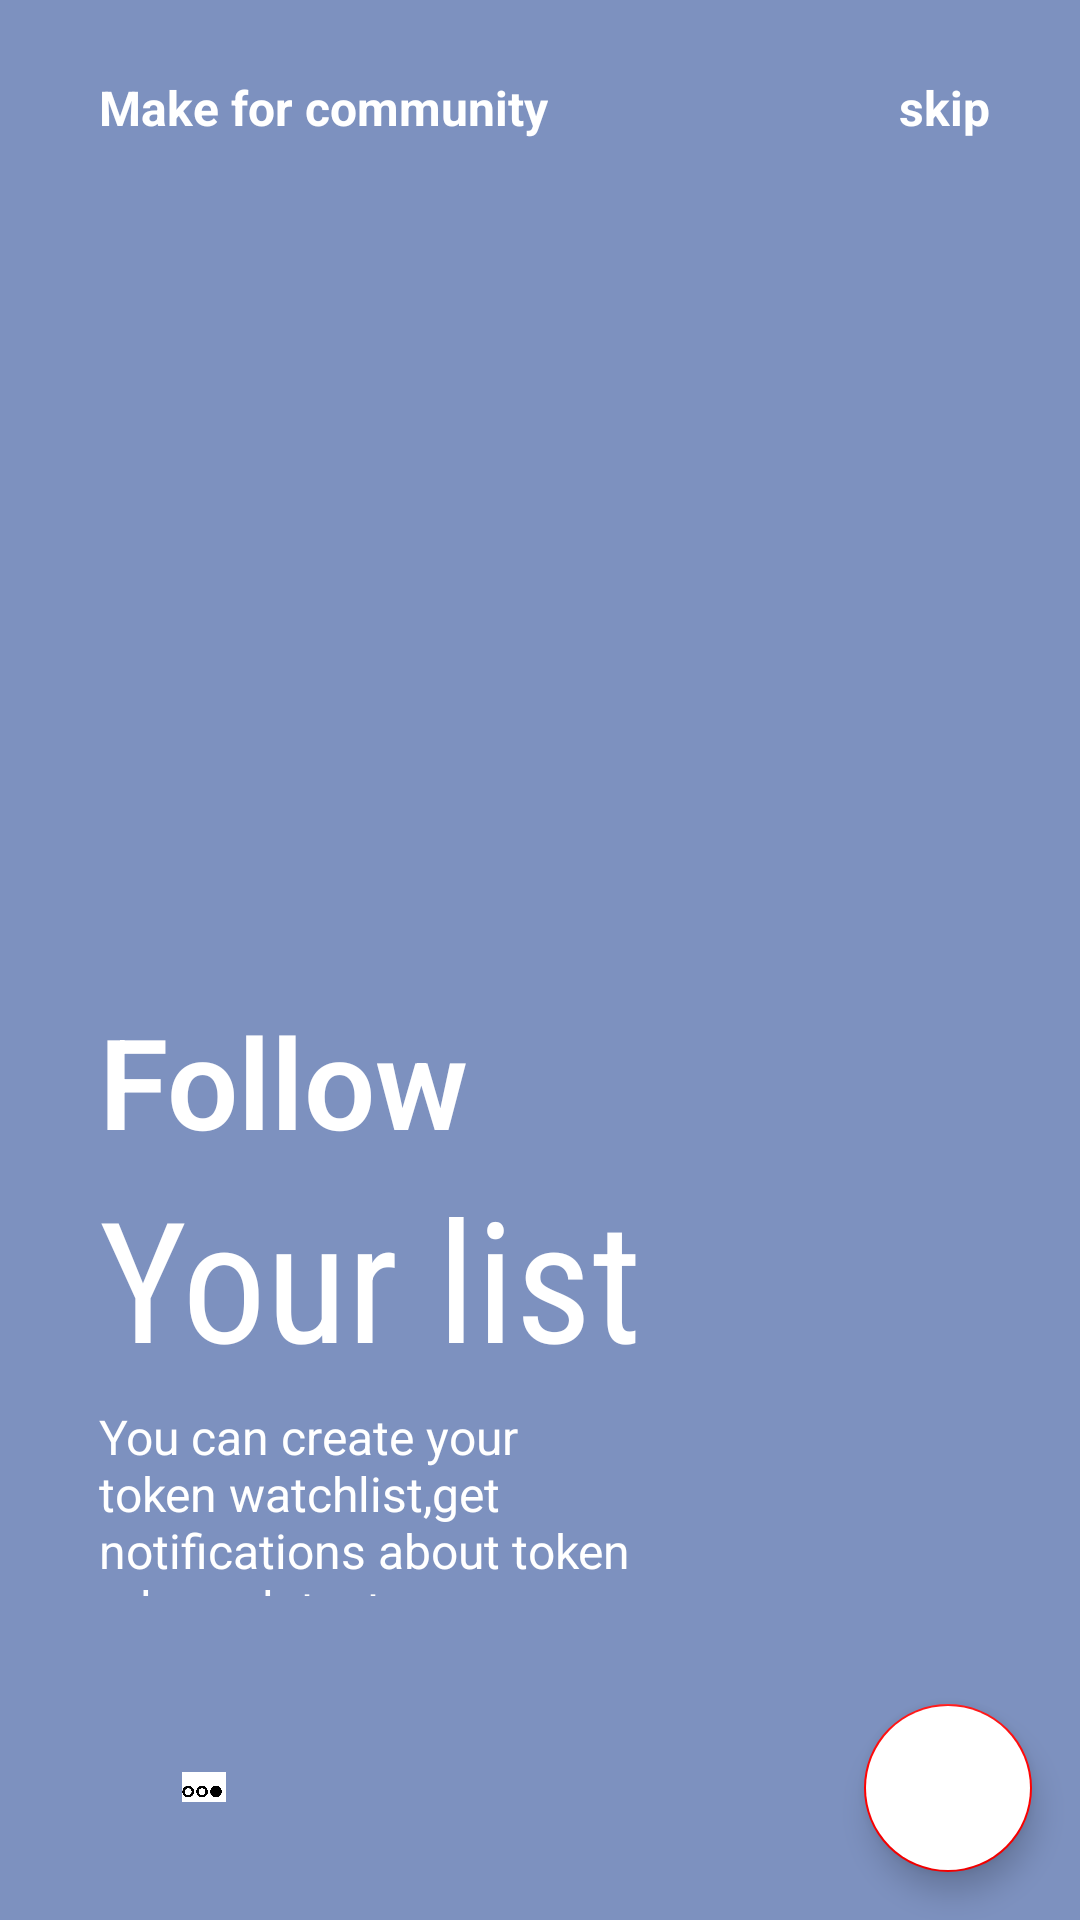

Icon click points for this 1080px×1920px phone screenshot, format (x=x, y=y):
dot: (x=204, y=1787)
